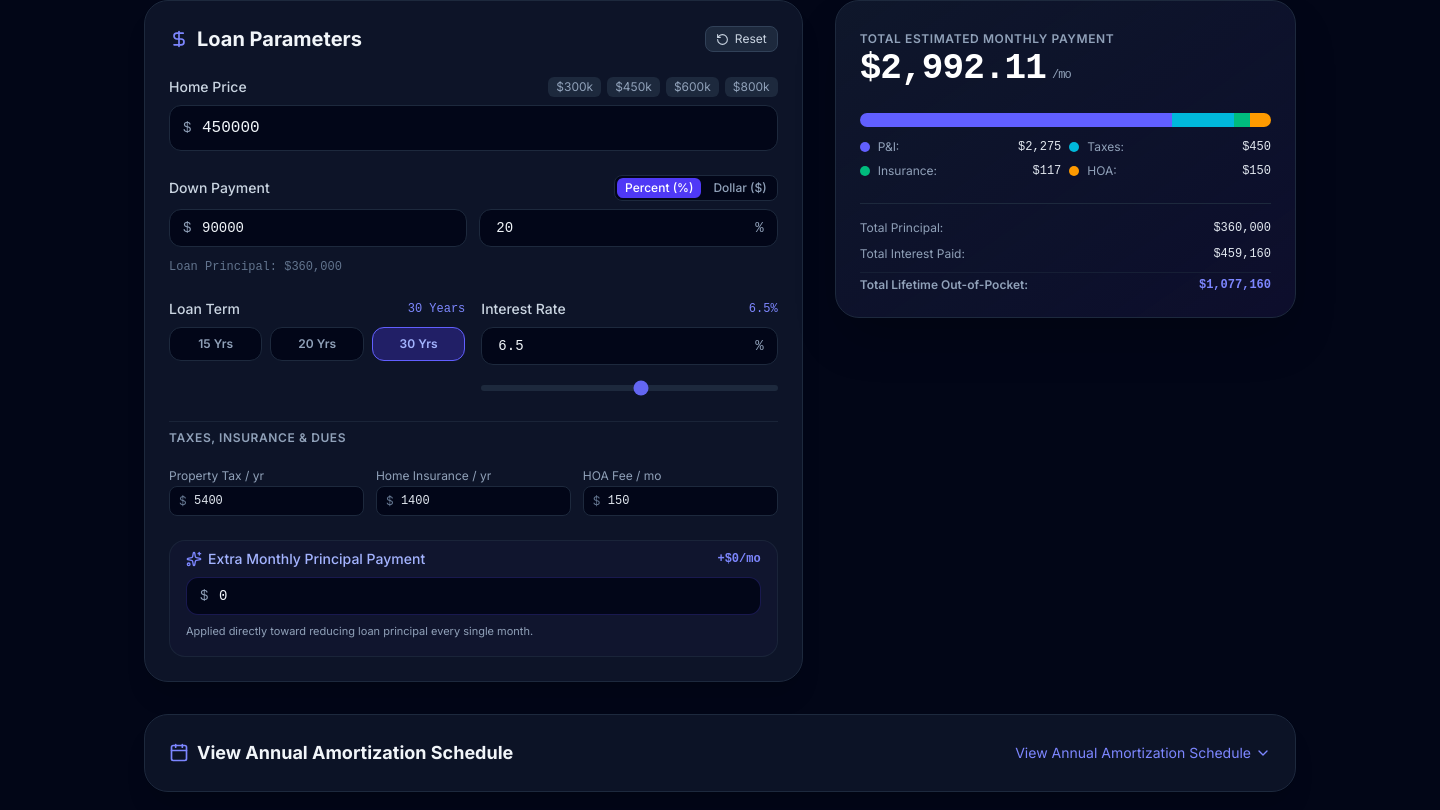
OmniCalc Acceptance Test Suite (Stories S-1 to S-7) › Story S-3: Mortgage Monthly Estimation › handles 0% interest rate fallback: computes linear principal ($360,000 / 360 = $1,000/mo) without crash
Replace the text in the number field labelled "Interest Rate" with "0": [629, 346] box [481, 327, 778, 365]
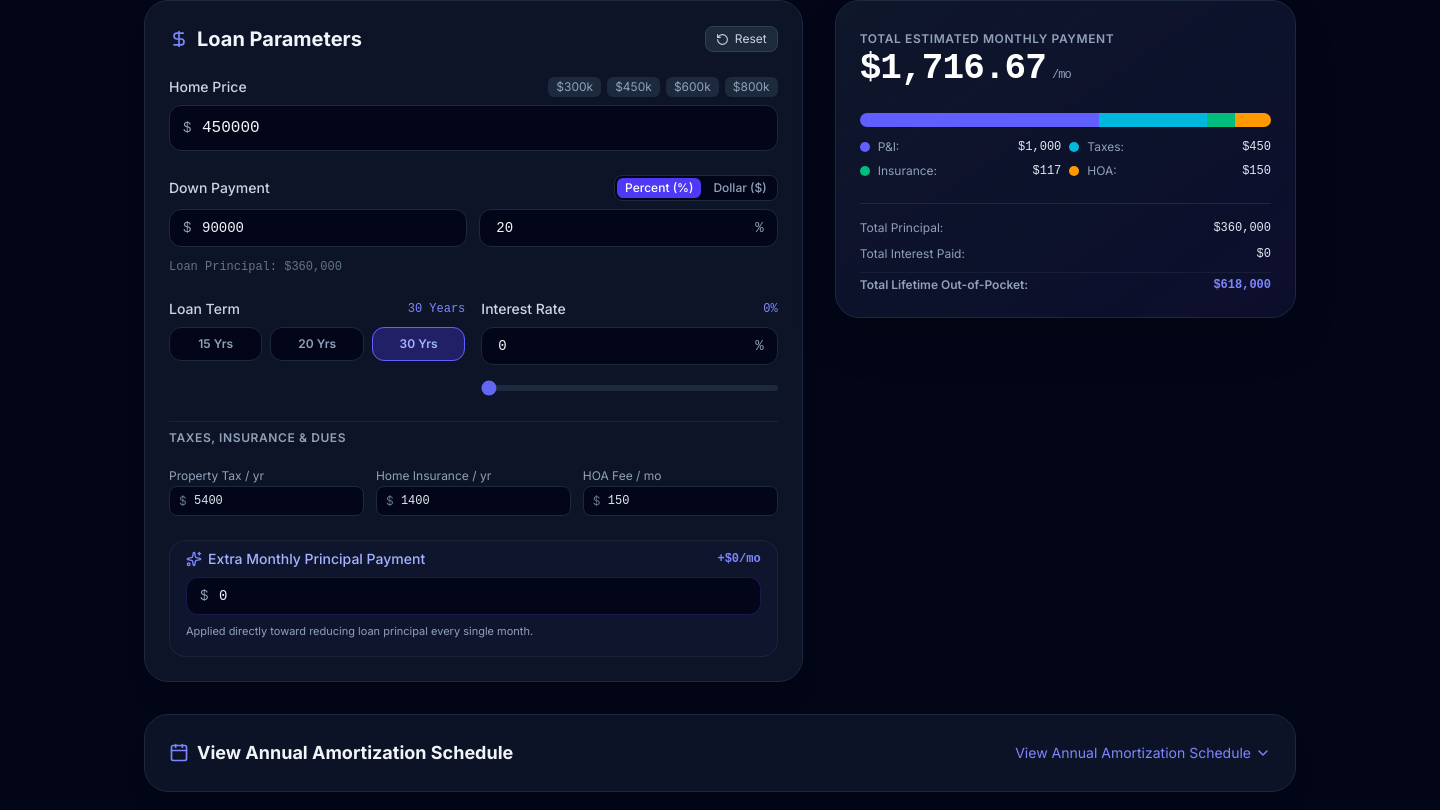
Expected: the element showing "P&I: $1,000" is shown, [860, 139, 1061, 155]
